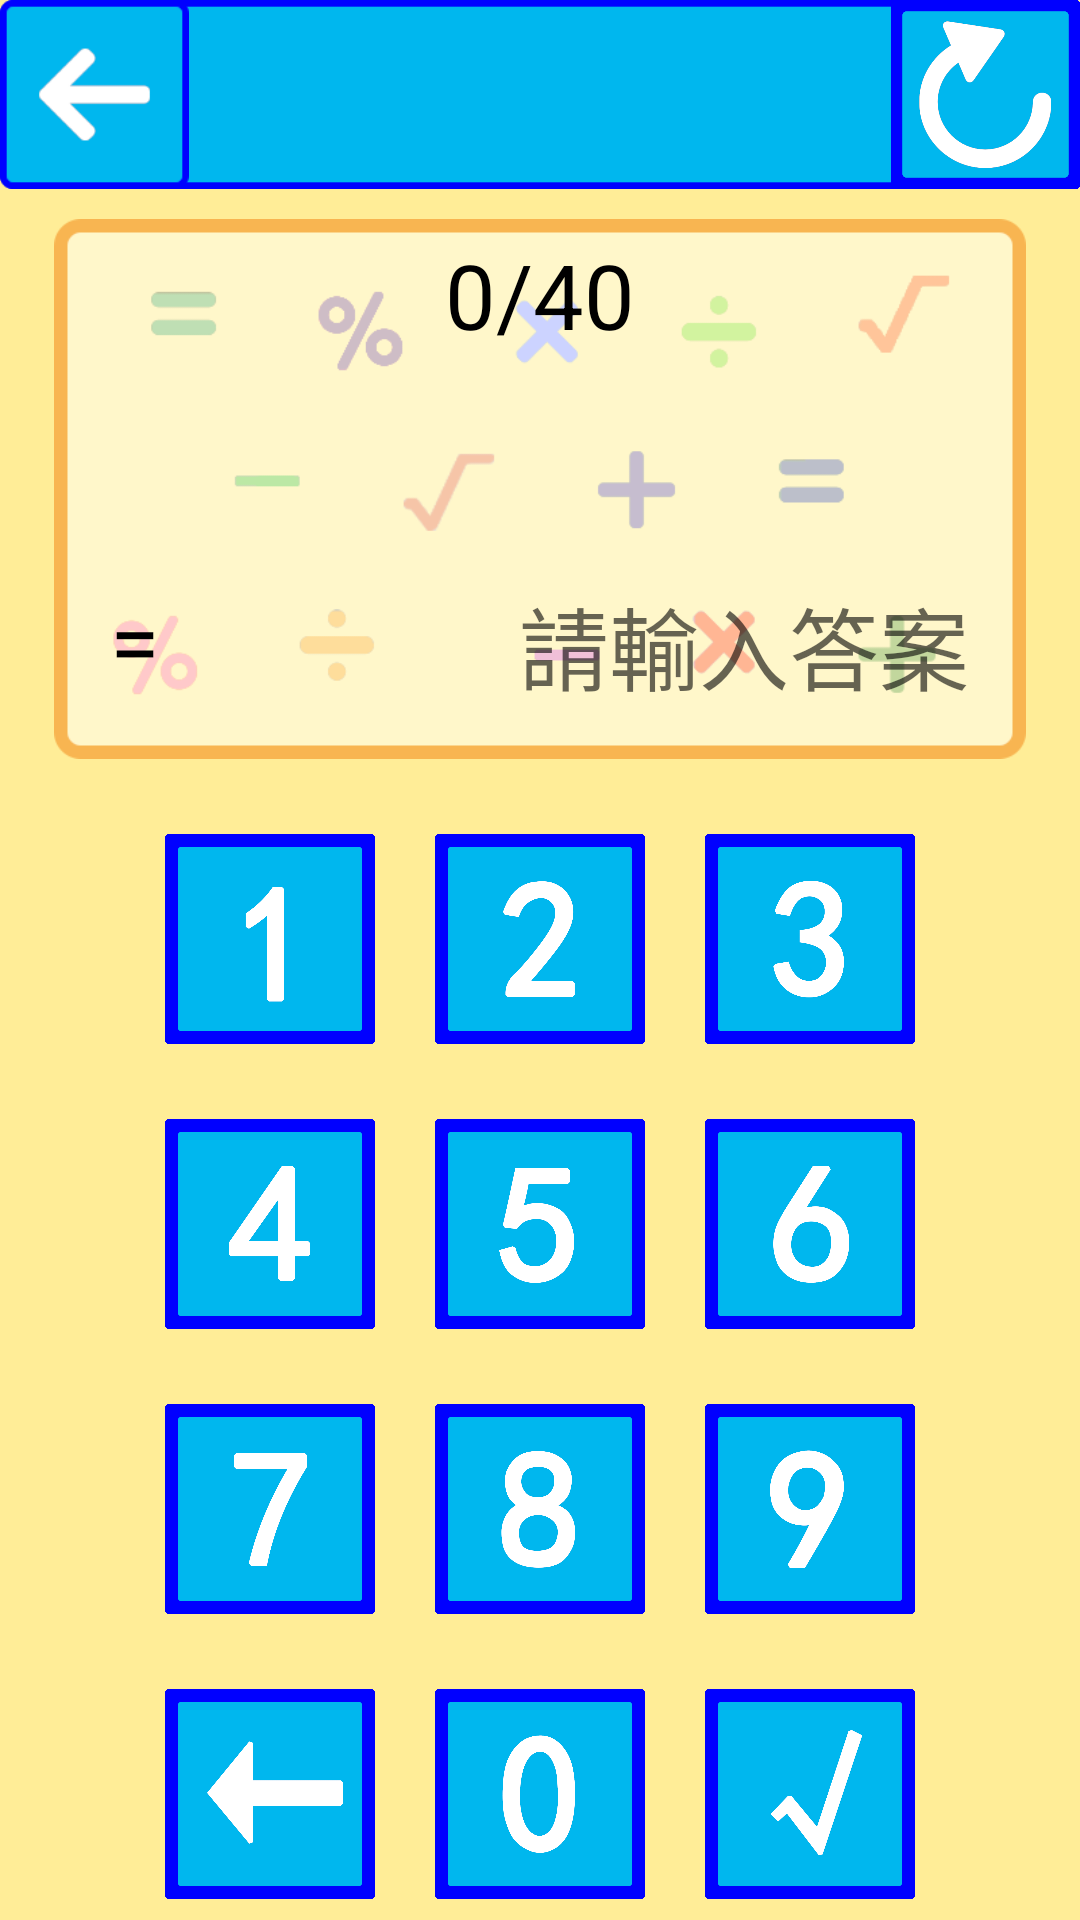

Icon click points for this 1080px×1920px phone screenshot, format (x,y):
backto: (94,94)
btnagain: (985,94)
btncancle: (270,1794)
btntrue: (810,1794)
